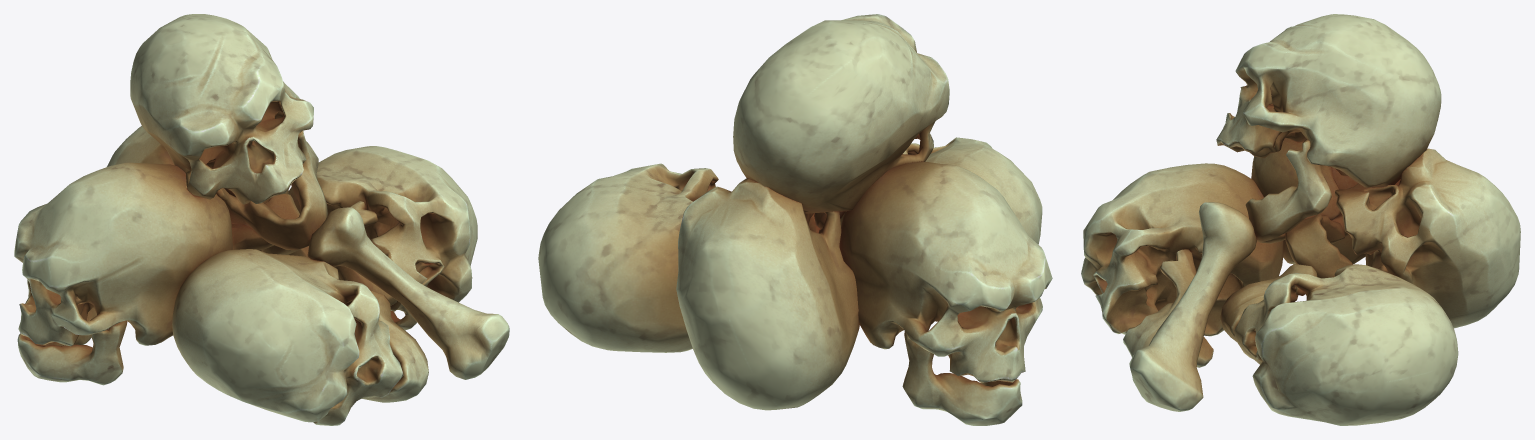
Rendered from pileskulls.glb.
3 views of the same model, side by side, from view 1: azimuth 30°, elevation 25°; view 2: azimuth 150°, elevation 25°; view 3: azimuth 270°, elevation 25° (orthographic). The views are drawn at different scales.
Visible parts, largest first — view 1: pileofbones; view 2: pileofbones; view 3: pileofbones.
Part boxes in pixels (x1=…): pileofbones: x1=14, y1=14, x2=509, y2=425; pileofbones: x1=538, y1=14, x2=1052, y2=425; pileofbones: x1=1081, y1=14, x2=1520, y2=425.
Bounding box in the file's own units: 6.64 × 4.76 × 5.97.
Materials: 1 (1 with a texture image).
